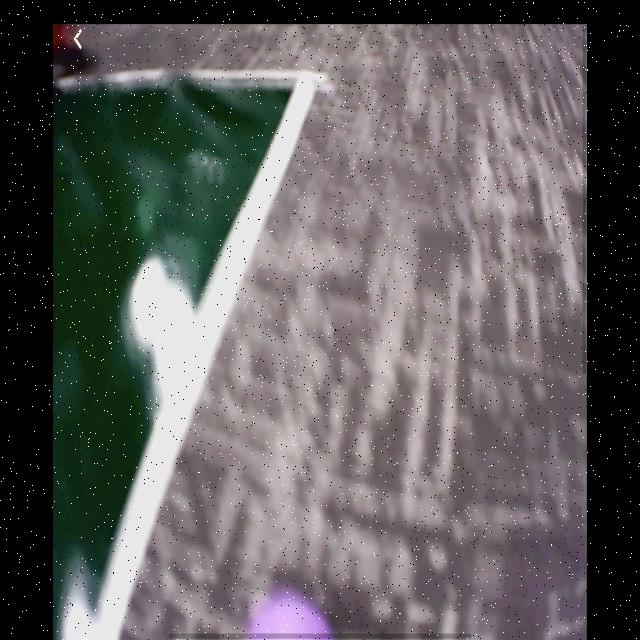ball: (249, 580, 333, 640)
